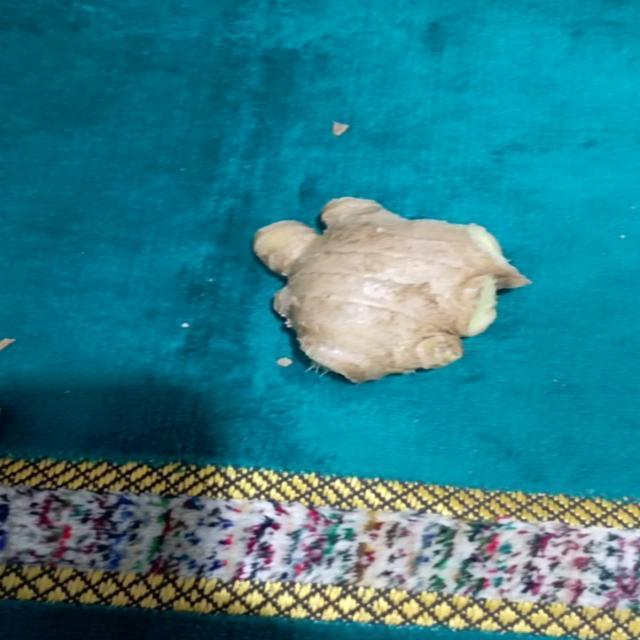ginger: (263, 203, 520, 374)
